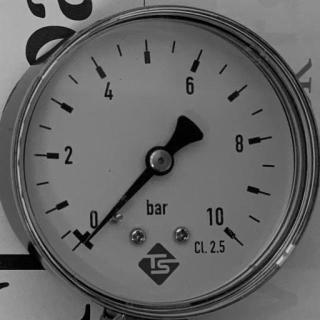gauge: (0, 2, 320, 320), (204, 204, 246, 254), (144, 146, 176, 178), (72, 223, 101, 252), (78, 233, 98, 253)
